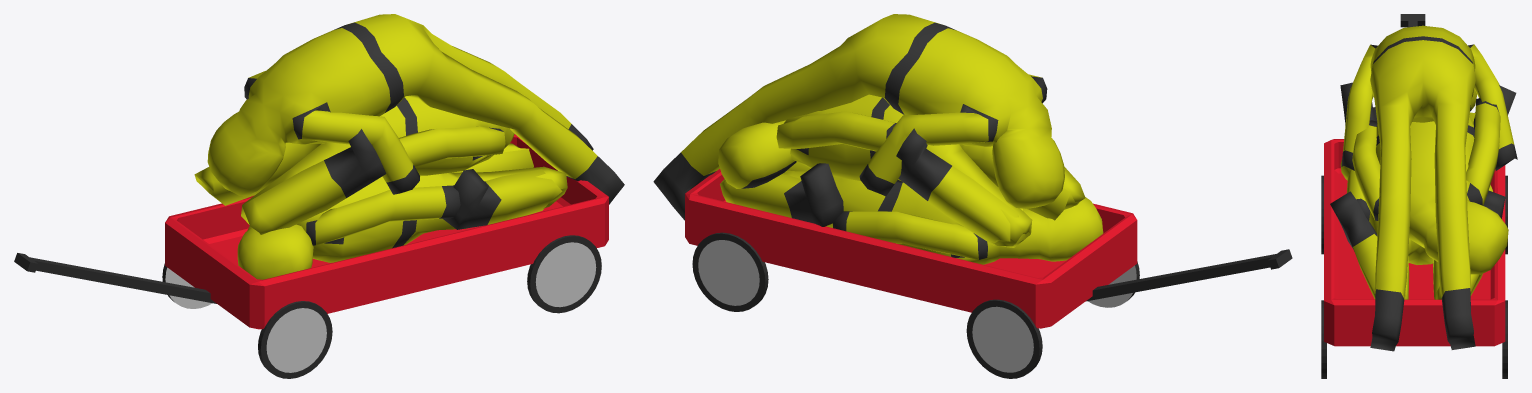
Rendered from corpseCartV2.fbx.
3 renders of one model, left to right at view 1: azimuth 30°, elevation 25°; view 2: azimuth 150°, elevation 25°; view 3: azimuth 270°, elevation 25°, orthographic. The views are drawn at different scales.
Parts seen in each view (by area): view 1: Roundcube.006, Cube, Roundcube.004, Roundcube.005, Circle, Cube.001; view 2: Roundcube.006, Cube, Roundcube.005, Roundcube.004, Circle, Cube.001; view 3: Roundcube.006, Cube, Roundcube.005, Roundcube.004, Circle, Cube.001.
Part boxes in pixels (left/top/right/bottom): Roundcube.006: left=207, top=14, right=624, bottom=204; Cube: left=165, top=134, right=608, bottom=329; Roundcube.004: left=237, top=143, right=567, bottom=279; Roundcube.005: left=194, top=96, right=514, bottom=234; Circle: left=162, top=235, right=601, bottom=378; Cube.001: left=14, top=253, right=216, bottom=303; Roundcube.006: left=653, top=14, right=1064, bottom=220; Cube: left=685, top=169, right=1137, bottom=328; Roundcube.005: left=718, top=94, right=1085, bottom=247; Roundcube.004: left=720, top=162, right=1103, bottom=264; Circle: left=692, top=232, right=1139, bottom=378; Cube.001: left=1086, top=249, right=1292, bottom=301; Roundcube.006: left=1341, top=25, right=1517, bottom=351; Cube: left=1324, top=139, right=1505, bottom=346; Roundcube.005: left=1340, top=82, right=1516, bottom=274; Roundcube.004: left=1330, top=159, right=1505, bottom=299; Circle: left=1321, top=175, right=1507, bottom=378; Cube.001: left=1400, top=14, right=1425, bottom=27.
Bounding box in the file's own units: 249 × 113 × 75.45.
